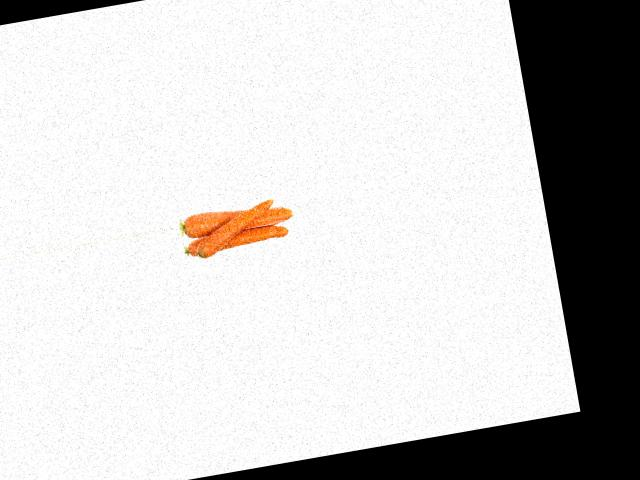carrot: (177, 197, 297, 238)
